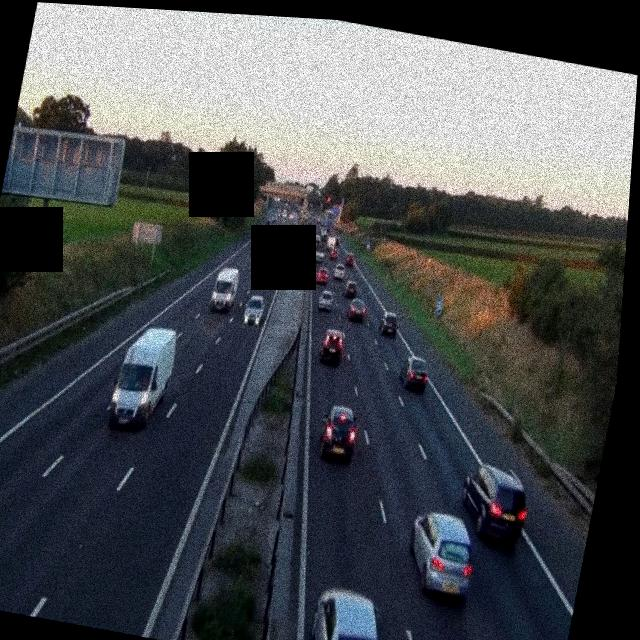car: (401, 507, 483, 603), (454, 461, 535, 547), (304, 584, 395, 640), (317, 403, 361, 462), (398, 354, 433, 393), (319, 325, 346, 364), (242, 292, 267, 325), (377, 309, 400, 336), (346, 296, 368, 321), (315, 288, 333, 312), (314, 265, 330, 285), (344, 276, 360, 296), (310, 248, 323, 264), (343, 253, 356, 268), (310, 229, 322, 245), (278, 236, 289, 249), (284, 223, 292, 235)
truck: (106, 321, 181, 435), (209, 262, 243, 315)
